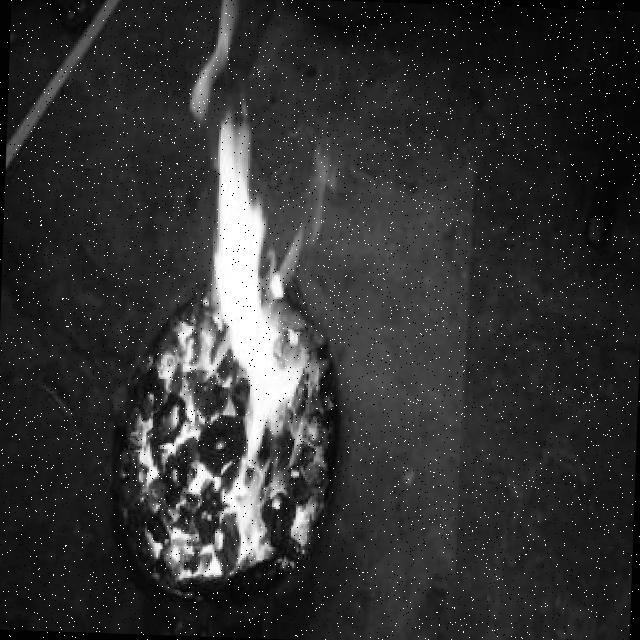Fire: (103, 5, 341, 592)
